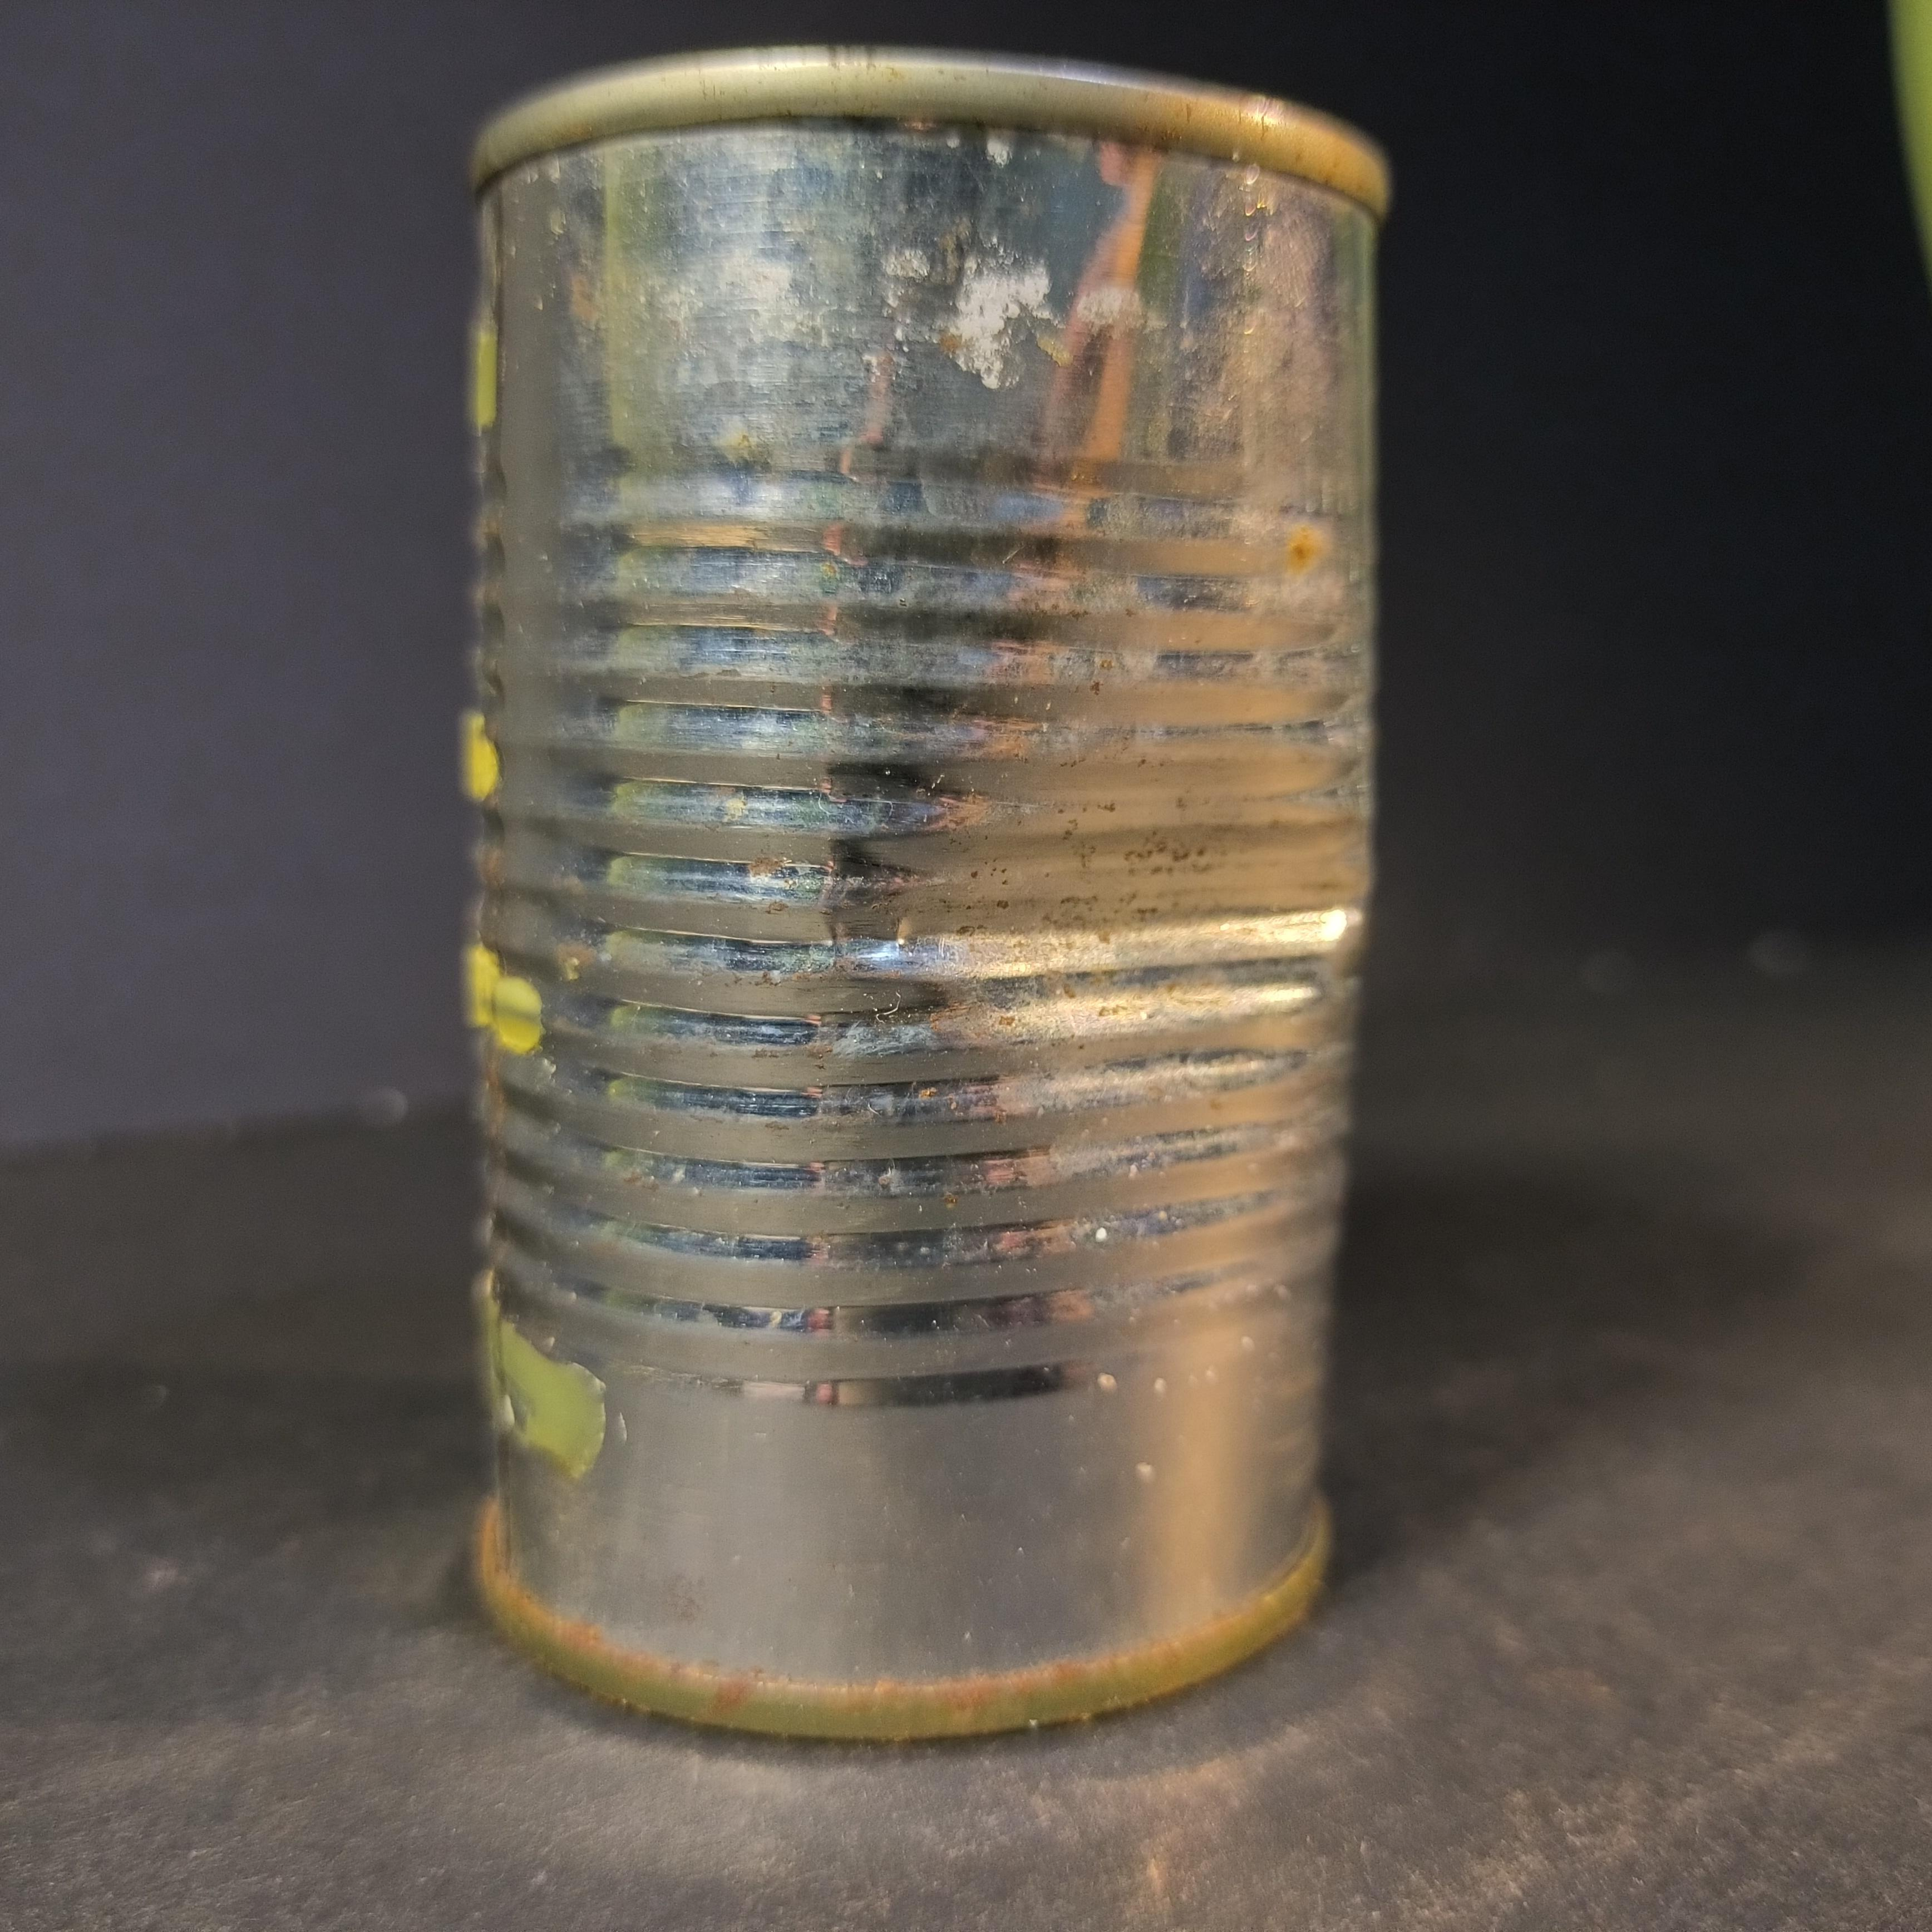Dented: (442, 35, 1391, 1773)
